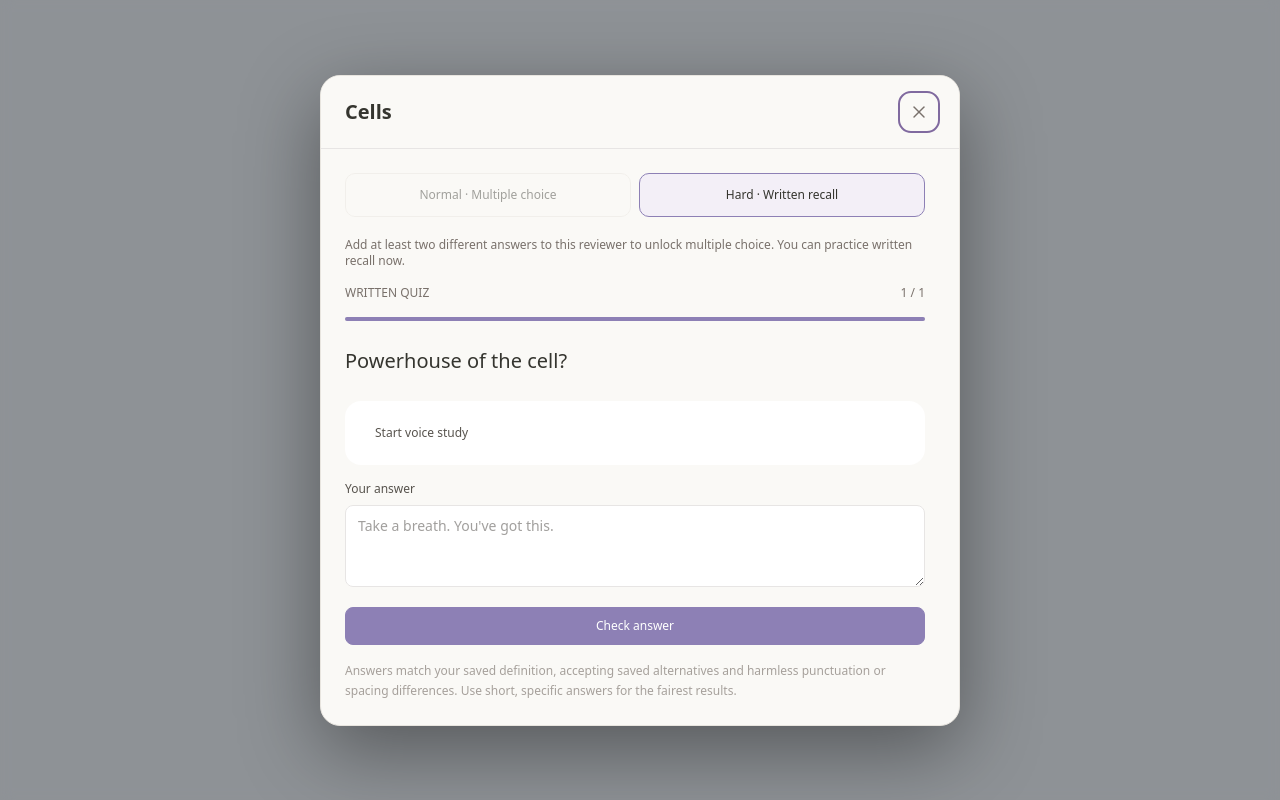
it: a failed quiz pause keeps the quiz open and shows recovery guidance
Click the button named "Close dialog" at (919, 112), box top-left (903, 96), bottom-right (935, 128)
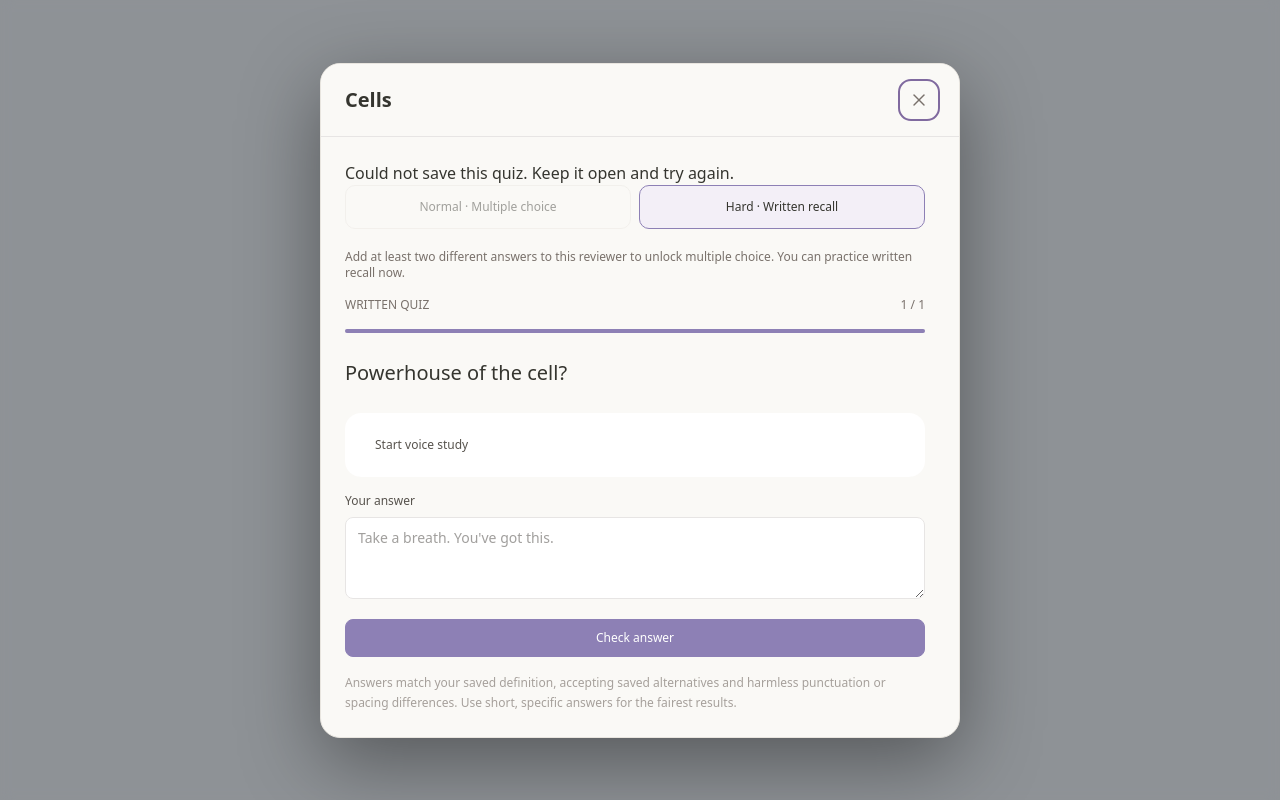
expect the text "Could not save this quiz. Keep it open and try again." is shown: met, box top-left (345, 162), bottom-right (734, 184)
